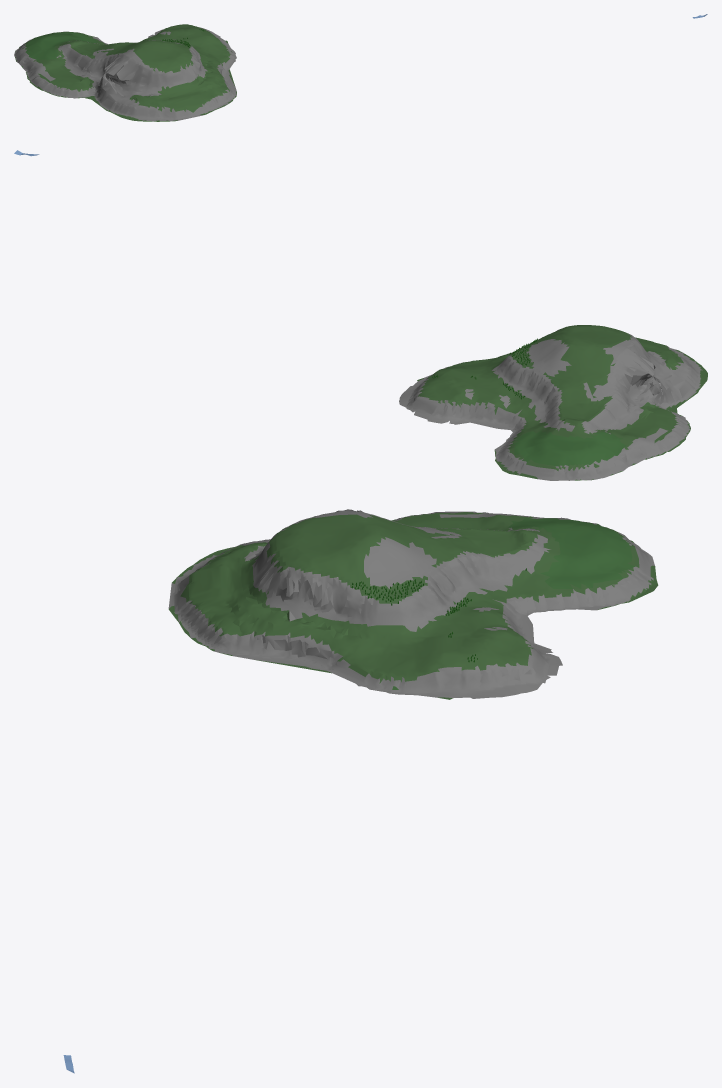
File: lame_test_island.glb
3 views of the same model, one above another, from view 1: azimuth 30°, elevation 25°; view 2: azimuth 150°, elevation 25°; view 3: azimuth 270°, elevation 25° (orthographic). The views are drawn at different scales.
Visible parts, largest first — view 1: Object_5, Object_4, Object_6; view 2: Object_5, Object_4, Object_6; view 3: Object_4, Object_5, Object_6.
Part boxes in pixels (box(x1,y1,x2,y2)): Object_5: box(14, 26, 236, 121); Object_4: box(15, 24, 236, 121); Object_6: box(25, 32, 232, 60); Object_5: box(399, 329, 702, 480); Object_4: box(417, 325, 707, 480); Object_6: box(512, 430, 626, 466); Object_4: box(168, 512, 658, 699); Object_5: box(168, 509, 654, 698); Object_6: box(392, 517, 635, 689).
Size of the model in its own units: 314 by 19.41 by 140.
